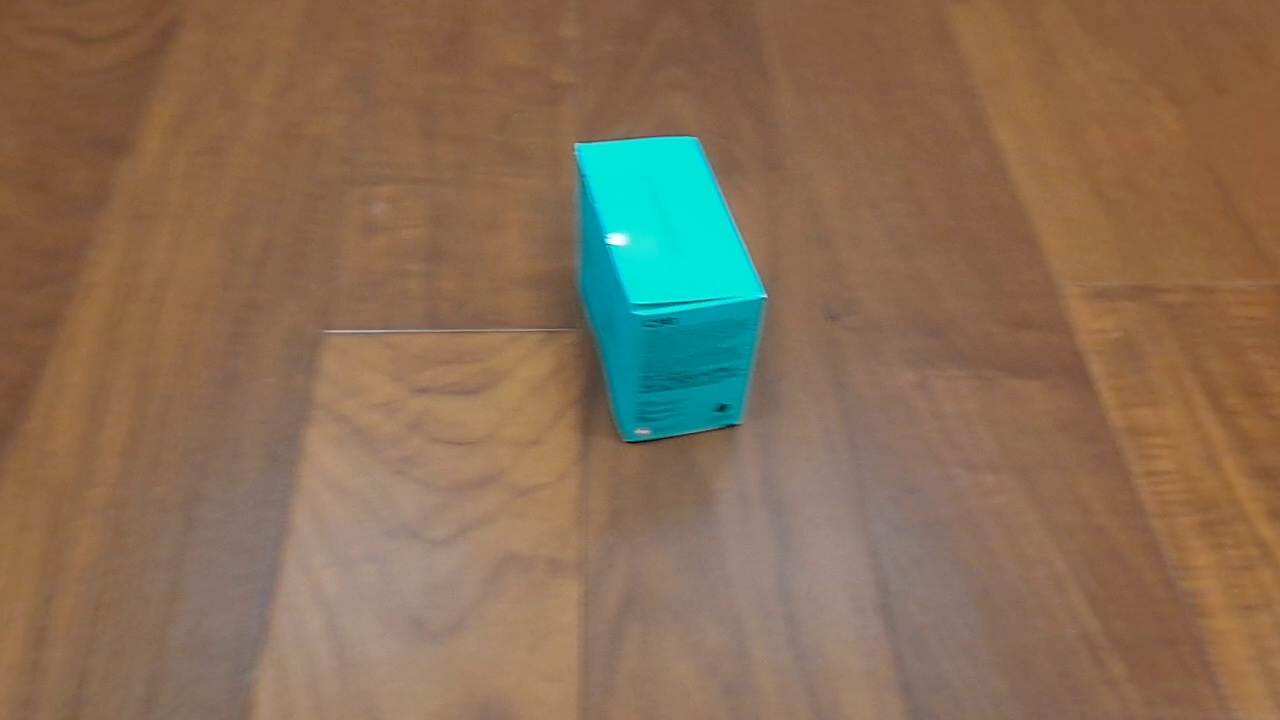webcam: (569, 132, 770, 445)
